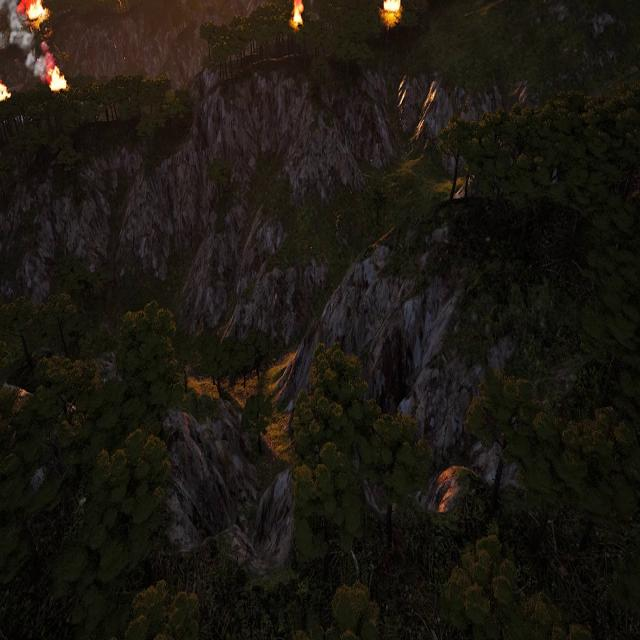fire: (50, 66, 70, 92), (25, 0, 48, 21), (382, 0, 402, 19), (290, 0, 303, 25), (0, 82, 10, 103)
smoke: (0, 0, 52, 77)
